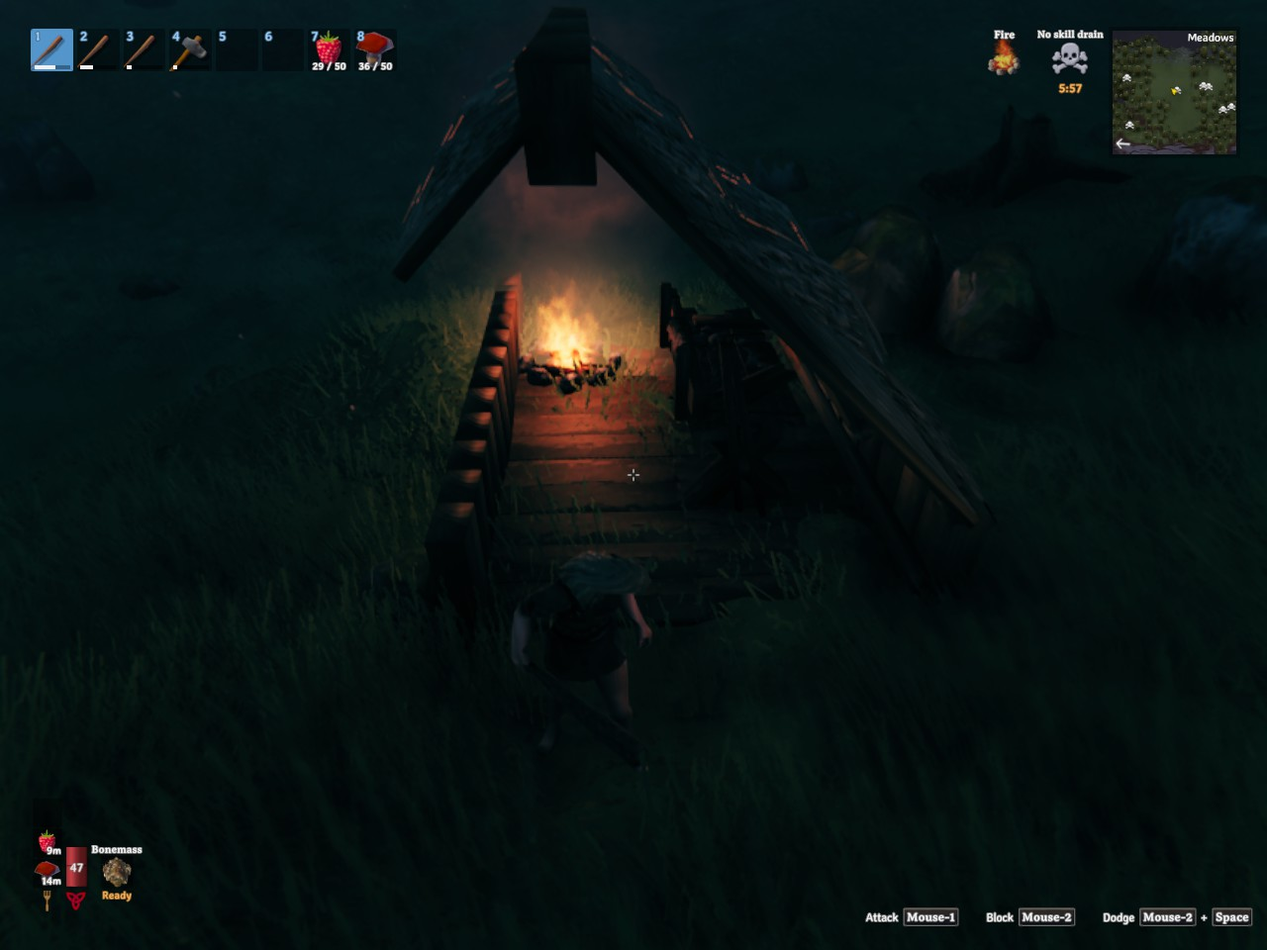Fire: (522, 299, 625, 388)
House: (405, 5, 984, 643)
